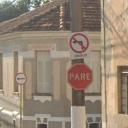NoVirarEsquerda: (68, 32, 89, 54)
Pare: (66, 62, 94, 90)
